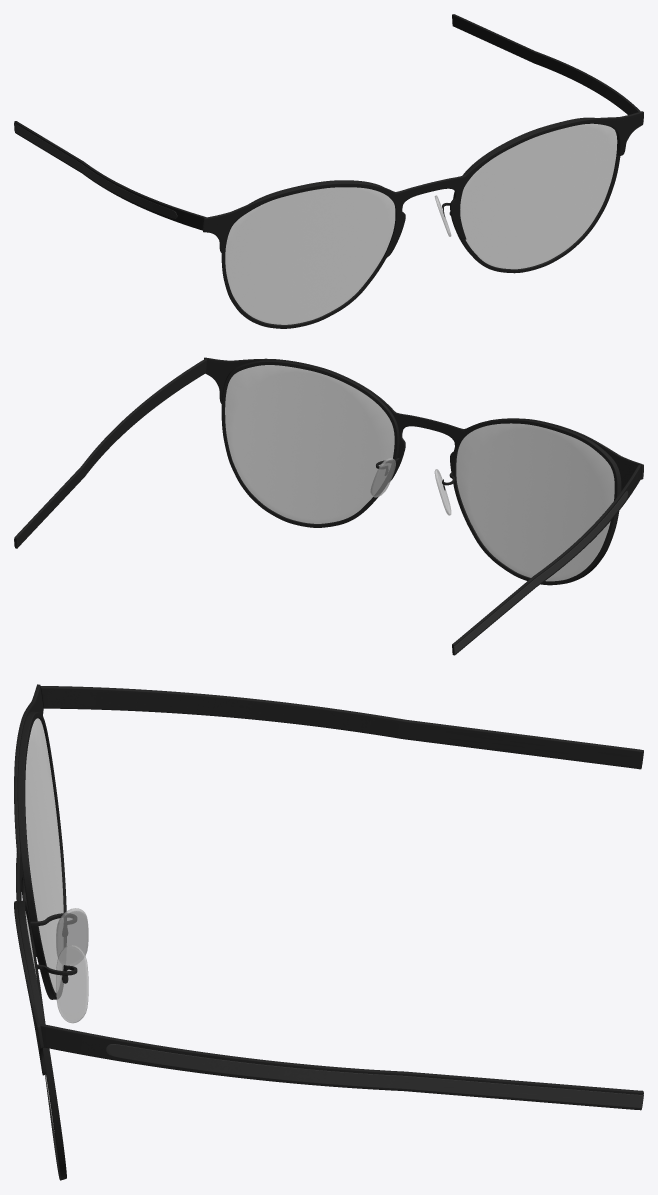
File: RB6375App.glb
The picture shows the model from 3 angles, top to bottom: view 1: azimuth 30°, elevation 25°; view 2: azimuth 150°, elevation 25°; view 3: azimuth 270°, elevation 25°; orthographic projection. The views are drawn at different scales.
Parts seen in each view (by area): view 1: lentes, armacao; view 2: lentes, armacao, pontes; view 3: armacao, lentes, pontes.
Boxes of the visible parts, x1=… form: lentes: x1=225, y1=123, x2=617, y2=324; armacao: x1=14, y1=14, x2=643, y2=328; lentes: x1=225, y1=365, x2=614, y2=581; armacao: x1=14, y1=357, x2=643, y2=655; pontes: x1=370, y1=458, x2=451, y2=515; armacao: x1=14, y1=684, x2=643, y2=1180; lentes: x1=25, y1=718, x2=63, y2=1132; pontes: x1=56, y1=908, x2=88, y2=1023.
Size of the model in its own units: 0.1607 by 0.0497 by 0.118.
4 materials, 4 textured.
